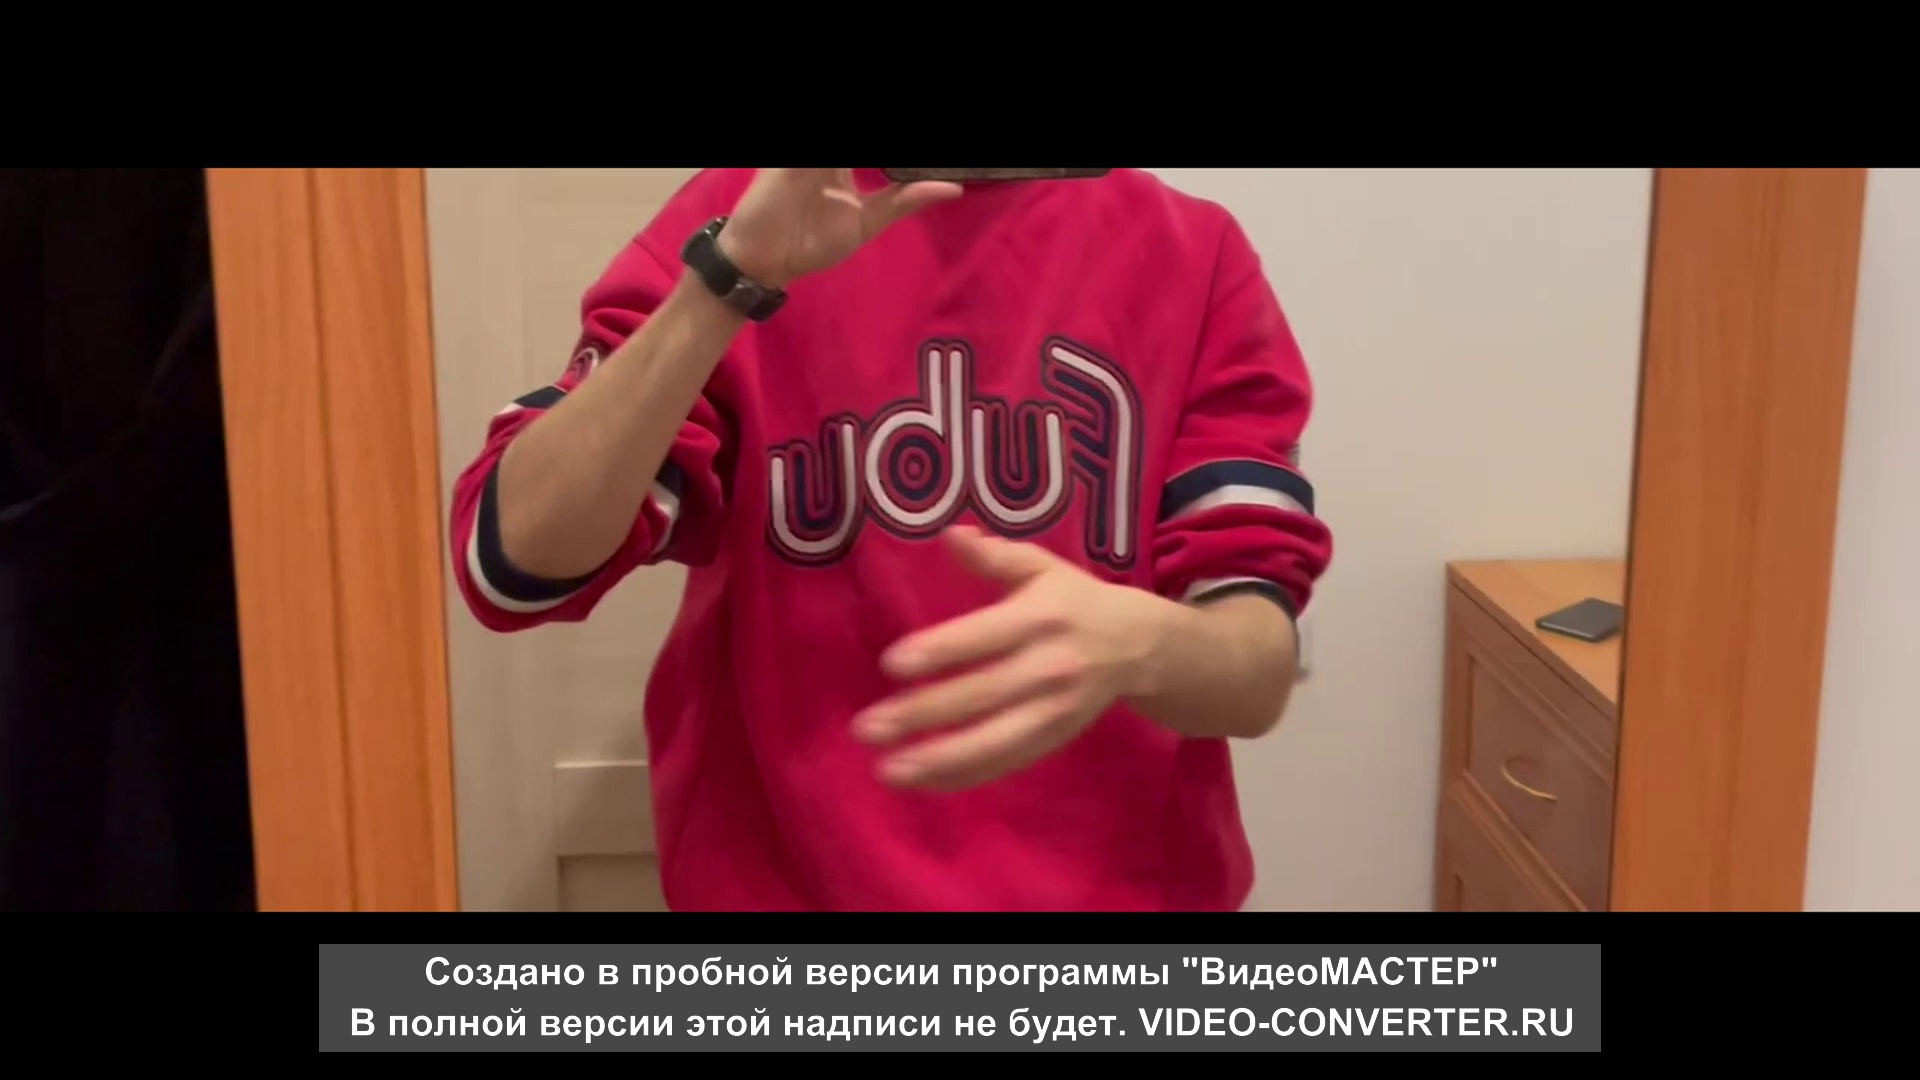Кисть: (851, 525, 1145, 786)
